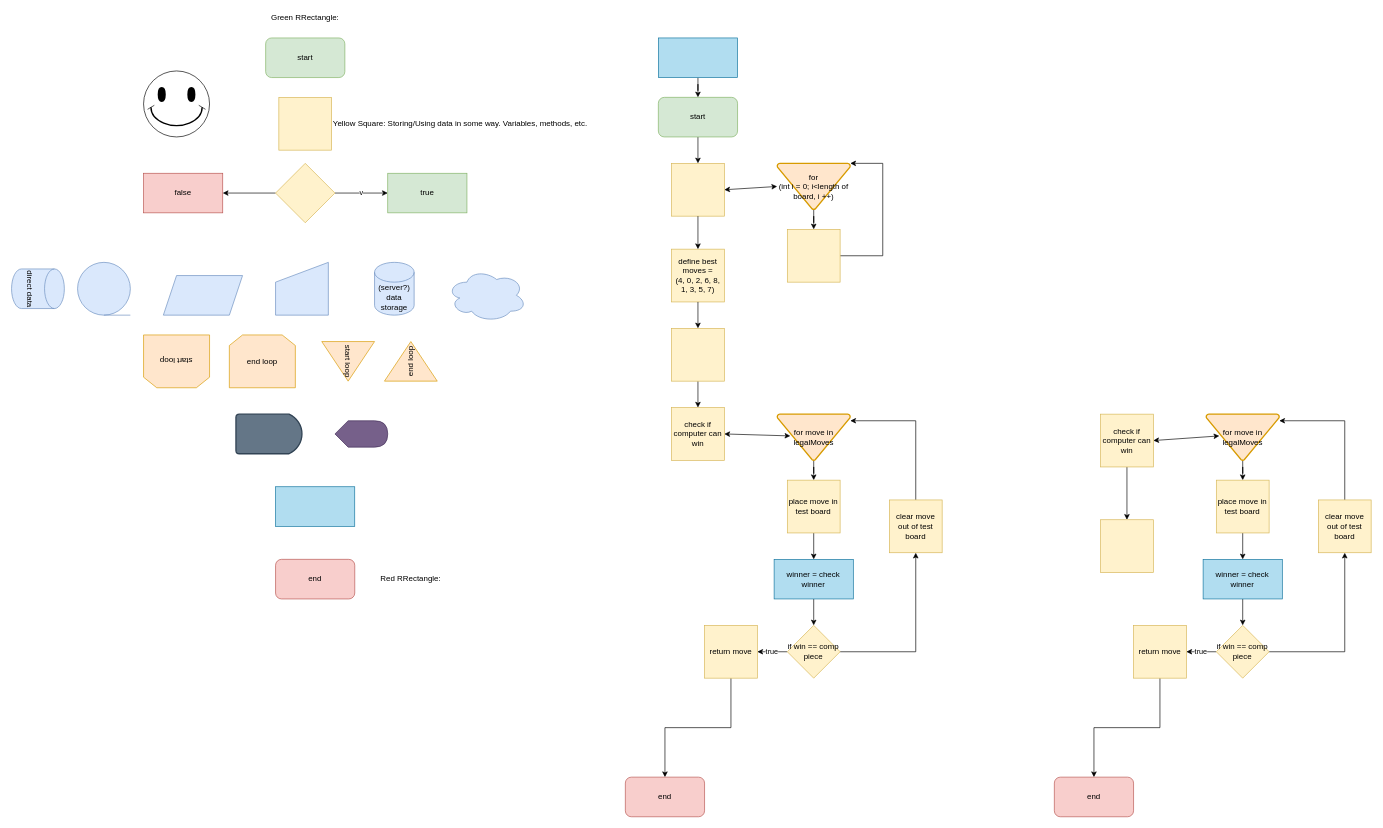
The diagram is 1383 pixels wide and 828 high, and some of its shapes have lost their labels. The shapes that lost their labels are listed below. From the top down, each one's box as (x1, y1, x2, y2) in pixels, then its label:
(658, 37, 738, 78): computer move (board, comp piece, human piece)
(278, 97, 332, 150): process
(275, 163, 335, 223): choicei if statement
(671, 163, 724, 216): make a copy of the board test board = new copy of board
(787, 229, 840, 282): test board[i] = board[i]
(77, 262, 130, 315): tape data
(163, 275, 243, 315): user data
(275, 262, 328, 315): direct user input
(446, 268, 526, 322): cloud data
(671, 328, 724, 381): create list of legal moves
(235, 413, 302, 454): delay
(334, 420, 388, 447): display
(275, 486, 355, 526): predefined process
(1100, 519, 1153, 573): check to see if human can win
